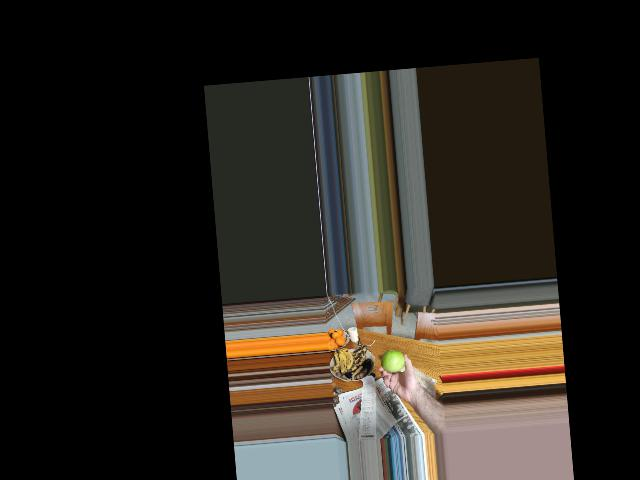apple: (380, 347, 406, 374)
